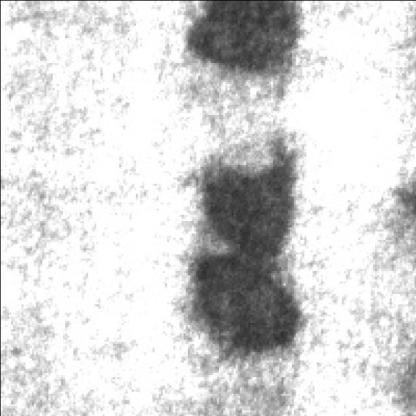patches: (181, 148, 302, 354), (180, 0, 300, 69)
